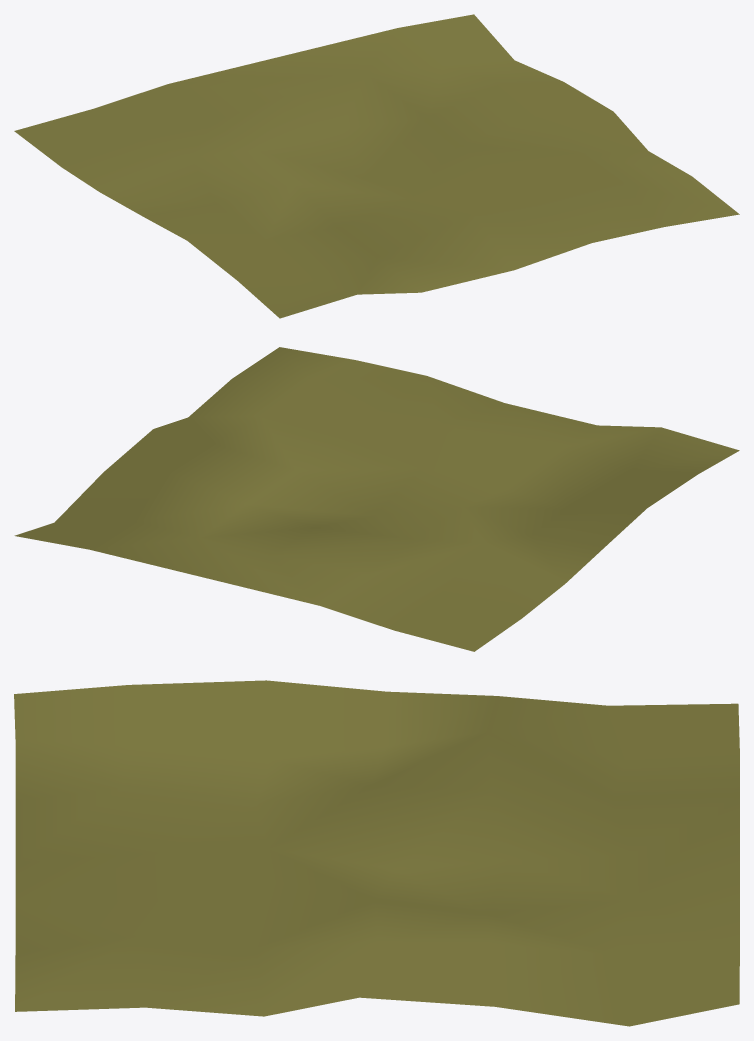
The model's file is TerrainPatch.fbx.
3 renders of one model, top to bottom at view 1: azimuth 30°, elevation 25°; view 2: azimuth 150°, elevation 25°; view 3: azimuth 270°, elevation 25°, orthographic. The views are drawn at different scales.
Parts seen in each view (by area): view 1: Plane.004; view 2: Plane.004; view 3: Plane.004.
Boxes of the visible parts, x1=… form: Plane.004: x1=14, y1=14, x2=739, y2=318; Plane.004: x1=14, y1=347, x2=739, y2=651; Plane.004: x1=14, y1=680, x2=739, y2=1026.
Bounding box in the file's own units: 302 × 20.36 × 301.
